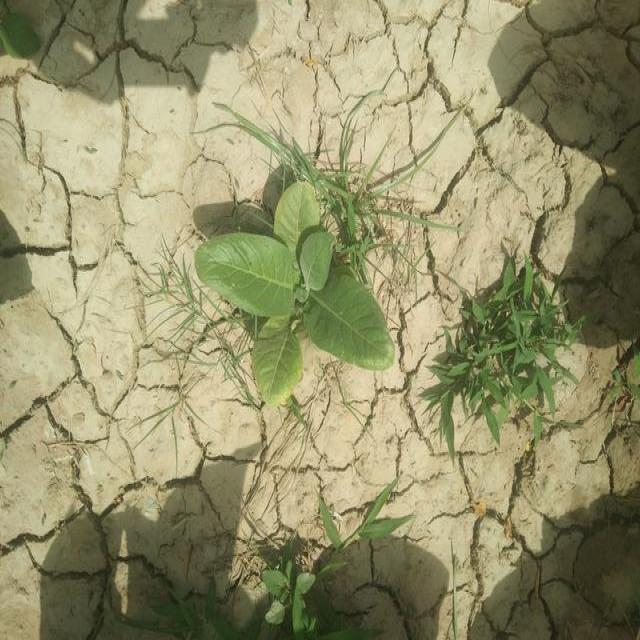crop: (206, 186, 392, 396)
